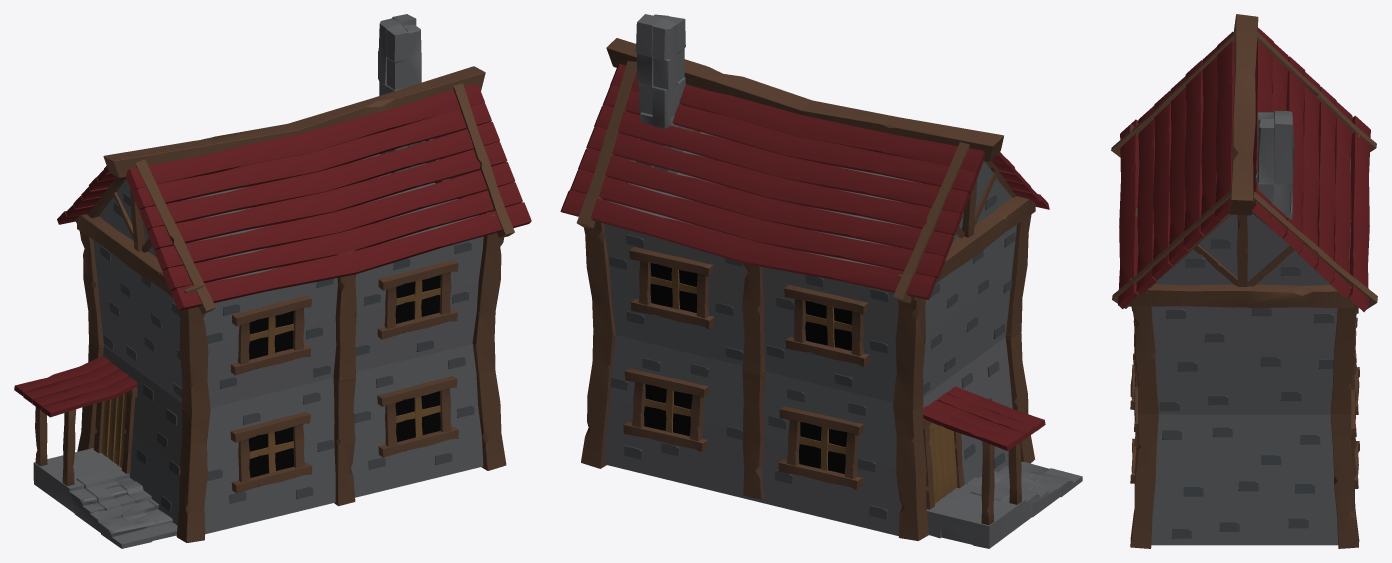
File: BigHouse.fbx
The picture shows the model from 3 angles, left to right: view 1: azimuth 30°, elevation 25°; view 2: azimuth 150°, elevation 25°; view 3: azimuth 270°, elevation 25°; orthographic projection. The views are drawn at different scales.
Parts seen in each view (by area): view 1: Cube.247; view 2: Cube.247; view 3: Cube.247.
Boxes of the visible parts, x1,y1,x2,y2 form: Cube.247: [14, 14, 531, 548]; Cube.247: [560, 14, 1082, 548]; Cube.247: [1111, 14, 1377, 548].
Size of the model in its own units: 3458 by 3167 by 1837.
